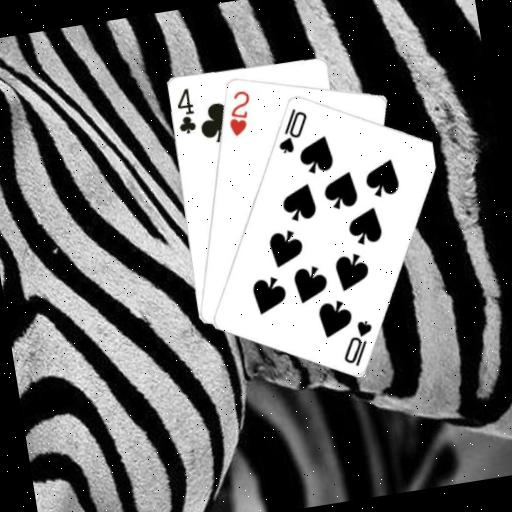10S: (269, 102, 314, 156), (334, 315, 379, 369)
2H: (220, 85, 256, 138)
4C: (170, 84, 199, 137)
